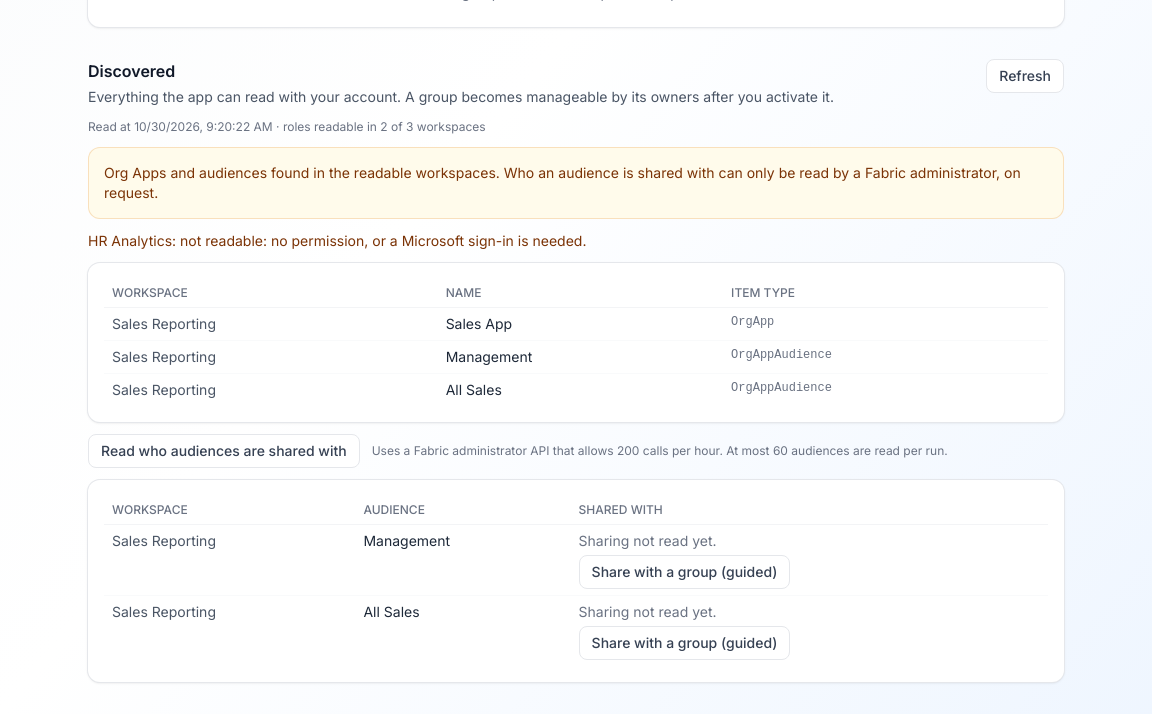
Test: Audiences tab for an app admin › lists audiences first and shows sharing only after it was read
(page scrolled)
Expected: the text "Sharing not read yet." is shown 2 times, [579,532,717,549]; [579,603,717,620]
What coordinates should you click on to do the following:
click the button "Read who audiences are shared with"
I would click on:
 (224, 451)
Its box is [88,434,360,468].
(page scrolled)
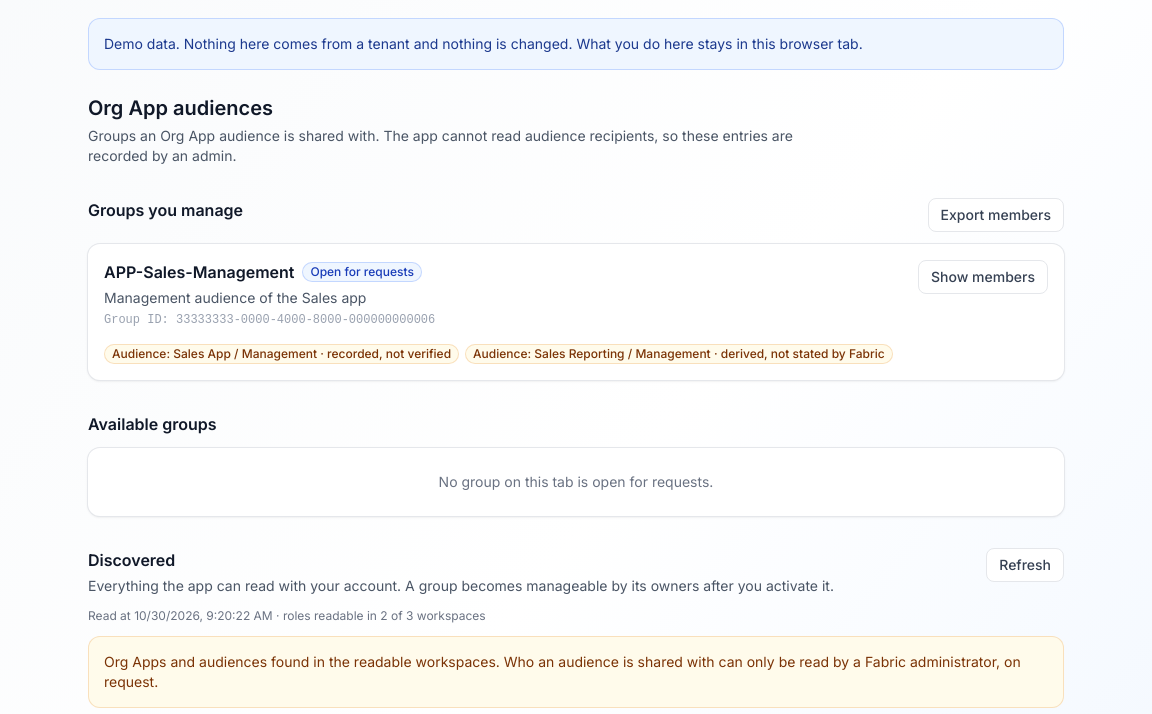
Now the text "Audience: Sales Reporting / Management · derived, not stated by Fabric" is shown, box [465,344,893,364]
